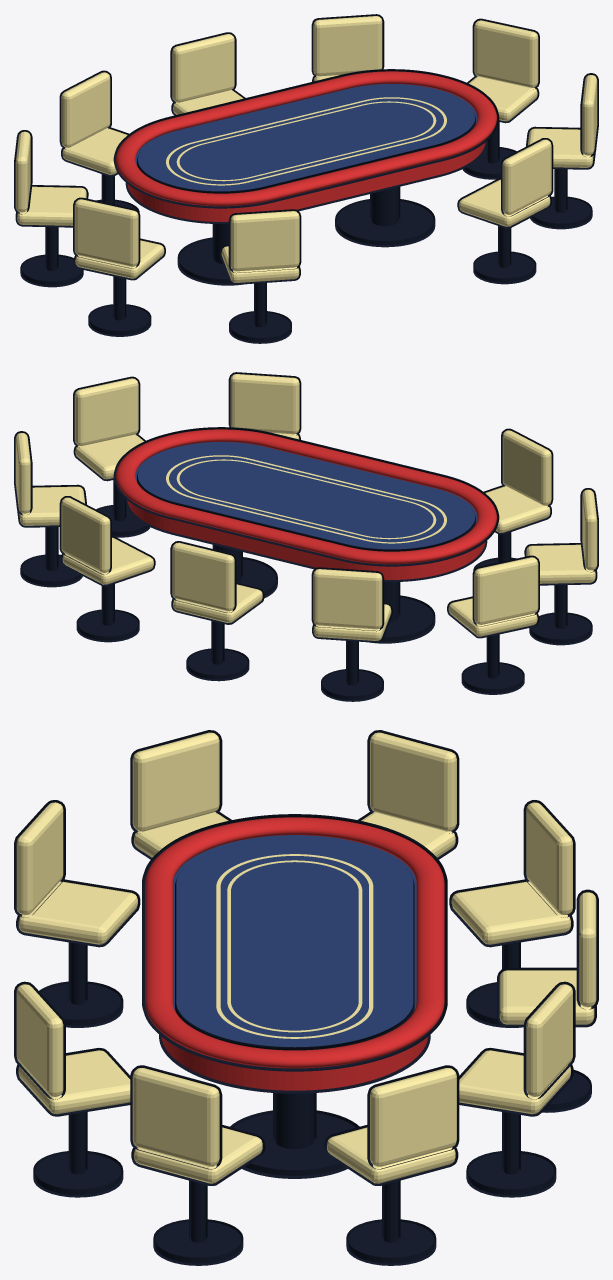
File: floor.glb
3 renders of one model, top to bottom at view 1: azimuth 30°, elevation 25°; view 2: azimuth 150°, elevation 25°; view 3: azimuth 270°, elevation 25°, orthographic. The views are drawn at different scales.
Parts seen in each view (by area): view 1: Table_Felt, Table_Rail, Seat_08, Seat_09, Seat_01, Seat_03, Seat_07, Seat_06, Seat_02, Table_Apron, Seat_05, Seat_04 (+6 smaller); view 2: Table_Felt, Table_Rail, Seat_07, Seat_05, Seat_06, Seat_04, Seat_02, Seat_08, Seat_09, Seat_03, Table_Apron, Seat_01 (+5 smaller); view 3: Table_Felt, Table_Rail, Seat_03, Seat_02, Seat_09, Seat_01, Seat_04, Seat_06, Seat_07, Seat_08, Seat_05, Table_Apron (+4 smaller).
Boxes of the visible parts, left/top/right/bottom form: Table_Felt: left=135, top=84, right=477, bottom=191; Table_Rail: left=113, top=69, right=499, bottom=208; Seat_08: left=73, top=197, right=165, bottom=336; Seat_09: left=220, top=209, right=301, bottom=343; Seat_01: left=457, top=138, right=553, bottom=284; Seat_03: left=462, top=18, right=539, bottom=179; Seat_07: left=14, top=130, right=88, bottom=287; Seat_06: left=59, top=70, right=139, bottom=212; Seat_02: left=526, top=73, right=598, bottom=229; Table_Apron: left=125, top=141, right=487, bottom=223; Seat_05: left=170, top=32, right=245, bottom=115; Seat_04: left=311, top=14, right=384, bottom=81; Table_Felt: left=135, top=442, right=477, bottom=549; Table_Rail: left=113, top=427, right=499, bottom=566; Seat_07: left=447, top=555, right=539, bottom=694; Seat_05: left=170, top=541, right=264, bottom=681; Seat_06: left=311, top=567, right=392, bottom=701; Seat_04: left=59, top=496, right=155, bottom=642; Seat_02: left=73, top=376, right=150, bottom=537; Seat_08: left=524, top=488, right=598, bottom=645; Seat_09: left=473, top=428, right=553, bottom=570; Seat_03: left=14, top=431, right=86, bottom=587; Table_Apron: left=125, top=499, right=487, bottom=581; Seat_01: left=228, top=372, right=301, bottom=439; Table_Felt: left=173, top=835, right=416, bottom=1047; Table_Rail: left=142, top=814, right=447, bottom=1071; Seat_03: left=324, top=1065, right=459, bottom=1265; Seat_02: left=130, top=1065, right=265, bottom=1265; Seat_09: left=14, top=800, right=140, bottom=1027; Seat_01: left=14, top=981, right=130, bottom=1197; Seat_04: left=459, top=981, right=575, bottom=1197; Seat_06: left=449, top=800, right=575, bottom=1027; Seat_07: left=358, top=730, right=459, bottom=859; Seat_08: left=130, top=730, right=231, bottom=859; Seat_05: left=497, top=889, right=598, bottom=1112; Table_Apron: left=159, top=1034, right=430, bottom=1093.
Size of the model in its own units: 4 by 0.9522 by 2.72.
